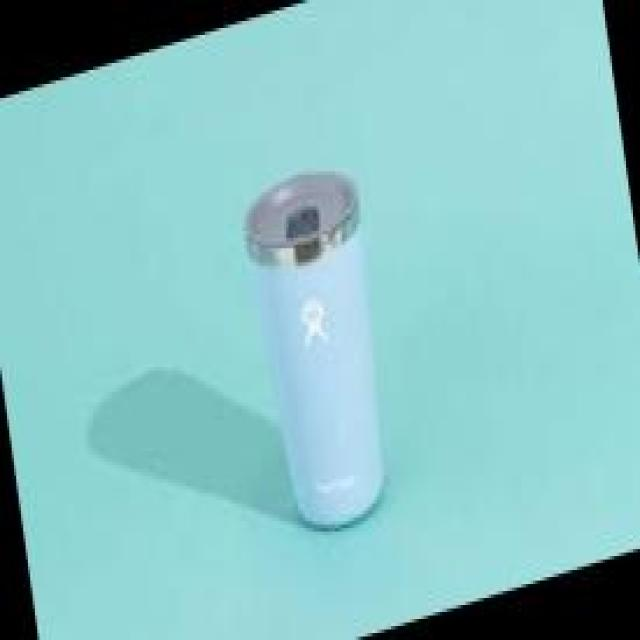bottle: (235, 150, 405, 546)
